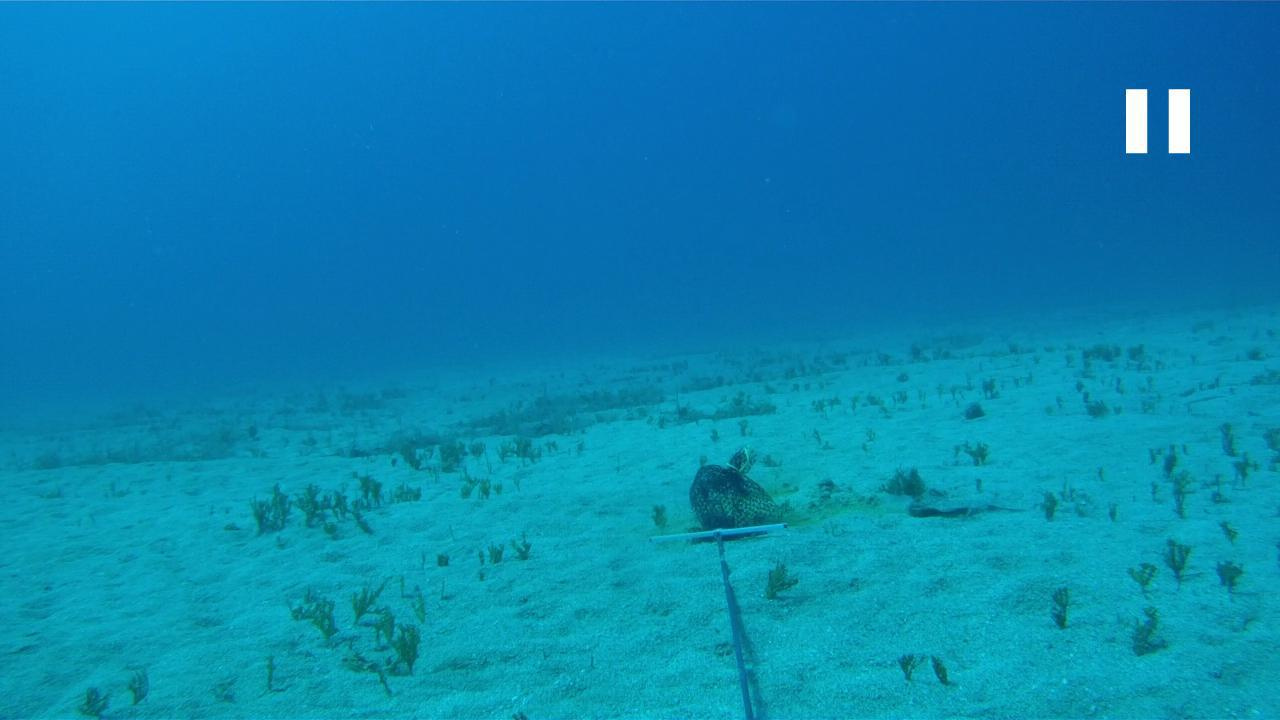bothus: (904, 485, 1024, 521)
